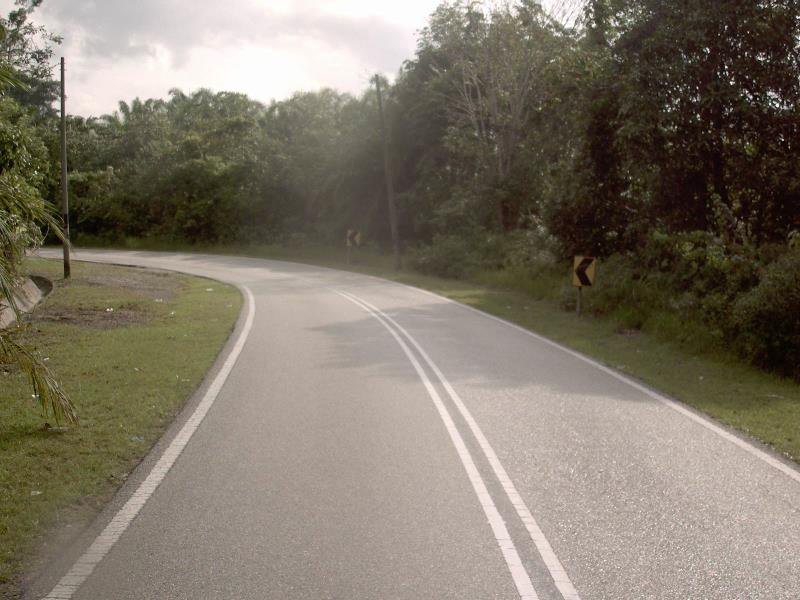traffic_sign: (563, 247, 605, 298)
